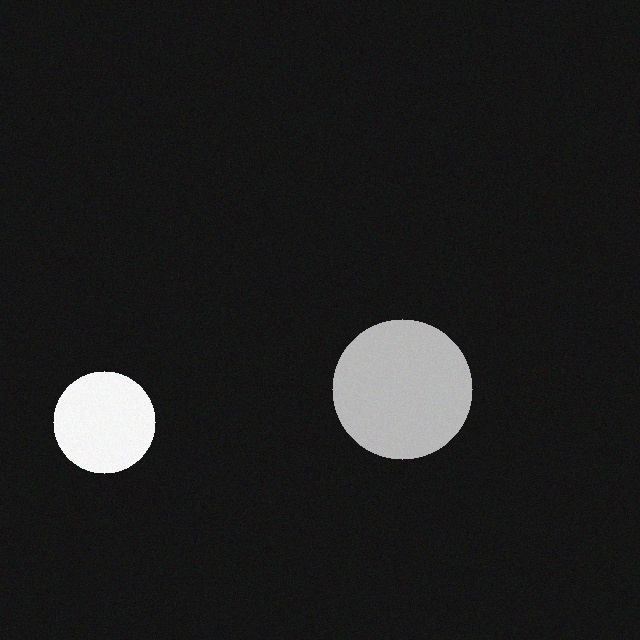circle: (334, 328, 474, 468), (55, 380, 157, 482)
